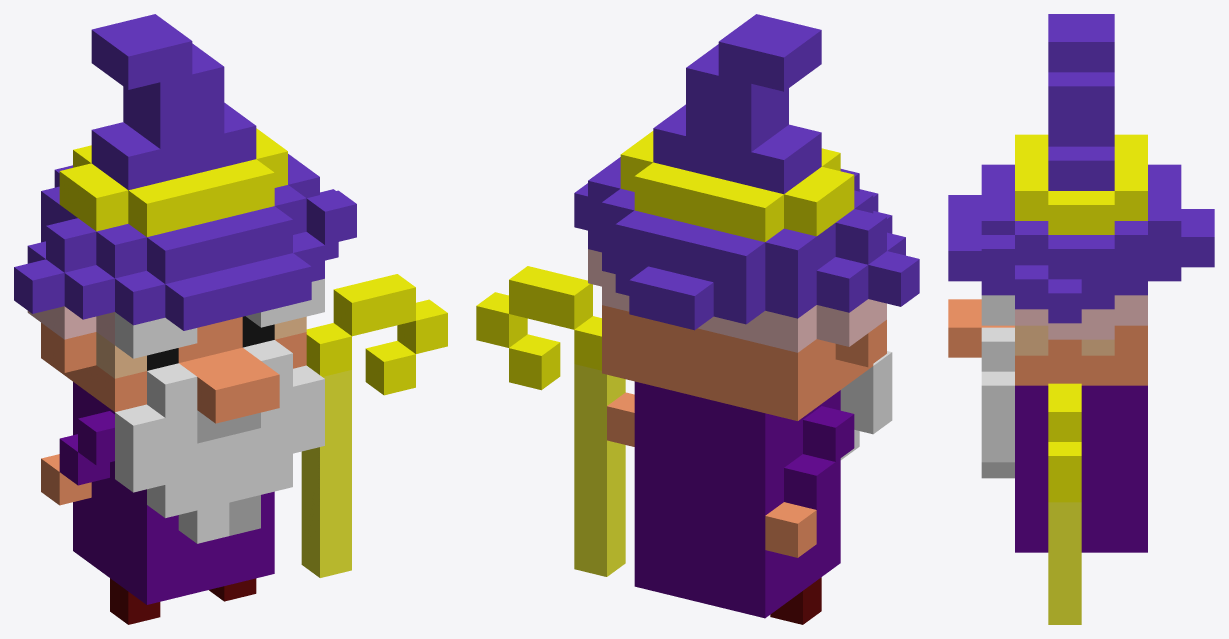
File: wizard.glb
The picture shows the model from 3 angles, left to right: view 1: azimuth 30°, elevation 25°; view 2: azimuth 150°, elevation 25°; view 3: azimuth 270°, elevation 25°; orthographic projection. The views are drawn at different scales.
Visible parts, largest first — view 1: Untitled; view 2: Untitled; view 3: Untitled.
Part boxes in pixels (bbox=[...]): Untitled: bbox=[14, 14, 447, 624]; Untitled: bbox=[476, 14, 919, 624]; Untitled: bbox=[948, 14, 1214, 624].
Size of the model in its own units: 1.3 by 1.7 by 0.8.
1 material, 1 textured.
